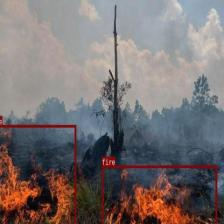fire: (0, 124, 76, 224), (102, 165, 216, 224)
